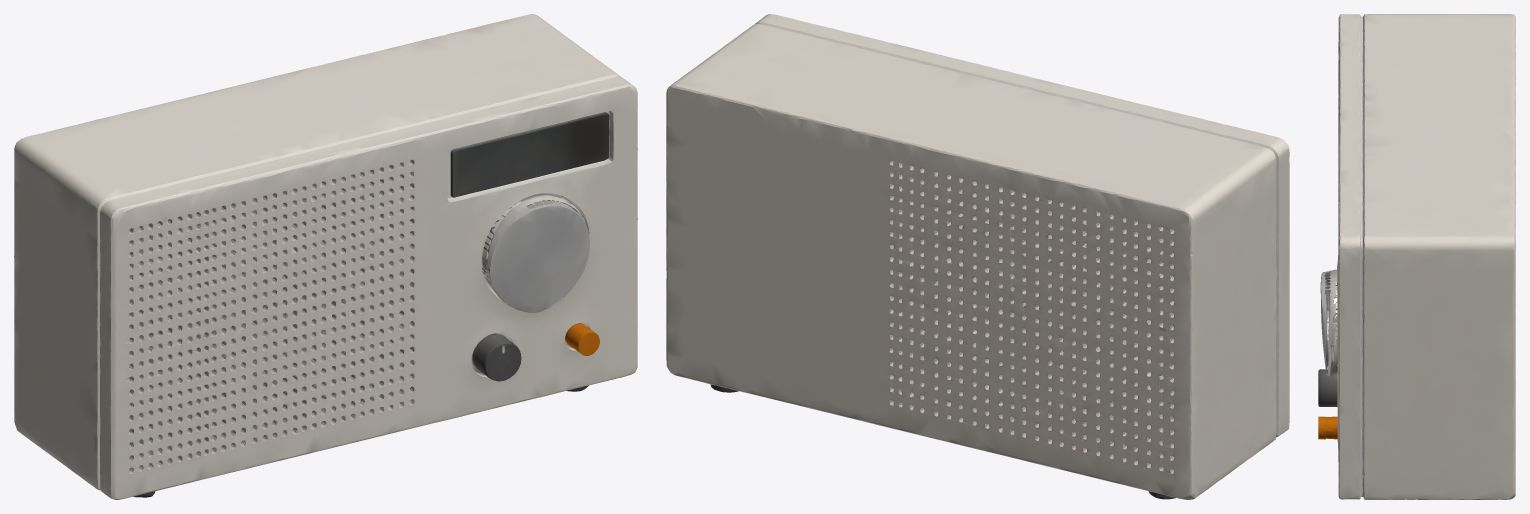
The model's file is radio-parts.glb.
3 renders of one model, left to right at view 1: azimuth 30°, elevation 25°; view 2: azimuth 150°, elevation 25°; view 3: azimuth 270°, elevation 25°, orthographic. The views are drawn at different scales.
Parts seen in each view (by area): view 1: root.3, root.2, root.1, root.0, root.4; view 2: root.3; view 3: root.3, root.2, root.0, root.4.
Boxes of the visible parts, x1,y1,x2,y2 form: root.3: (14,14,637,499); root.2: (482,193,589,312); root.1: (450,112,609,197); root.0: (472,333,521,381); root.4: (565,323,599,355); root.3: (666,14,1289,499); root.3: (1337,14,1515,499); root.2: (1320,269,1337,378); root.0: (1318,369,1337,406); root.4: (1318,416,1337,439).
Size of the model in its own units: 1.9 by 1.05 by 0.6894.
Materials: 5 (5 with a texture image).
